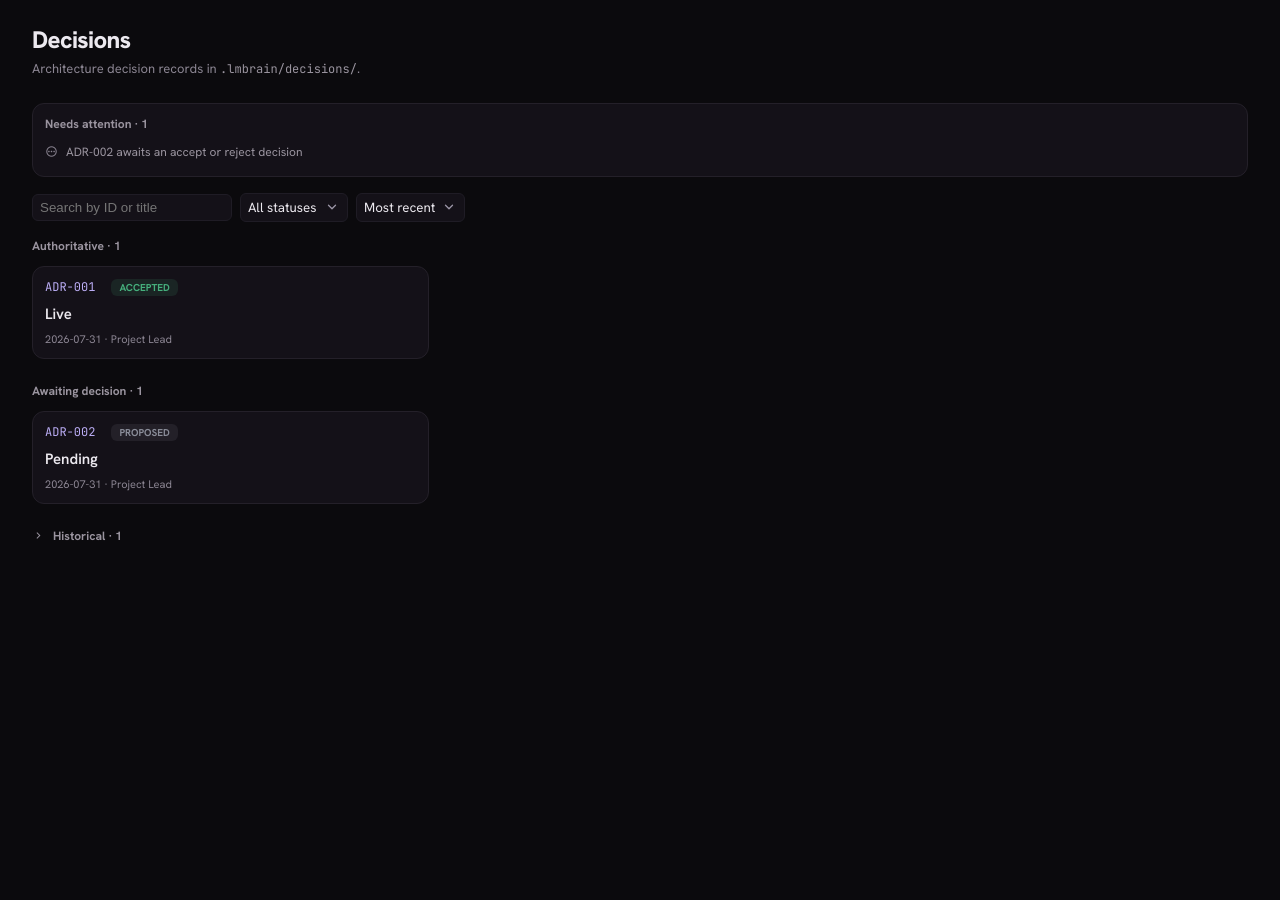
Test: DecisionsList lifecycle › groups by authority and collapses history behind a disclosure
The image size is (1280, 900).
Check: the heading "Authoritative · 1" is shown, box [32,238,121,254]
Check: the heading "Awaiting decision · 1" is shown, box [32,382,143,398]
Click the button "Historical · 1": (77, 536) [32,528,122,544]
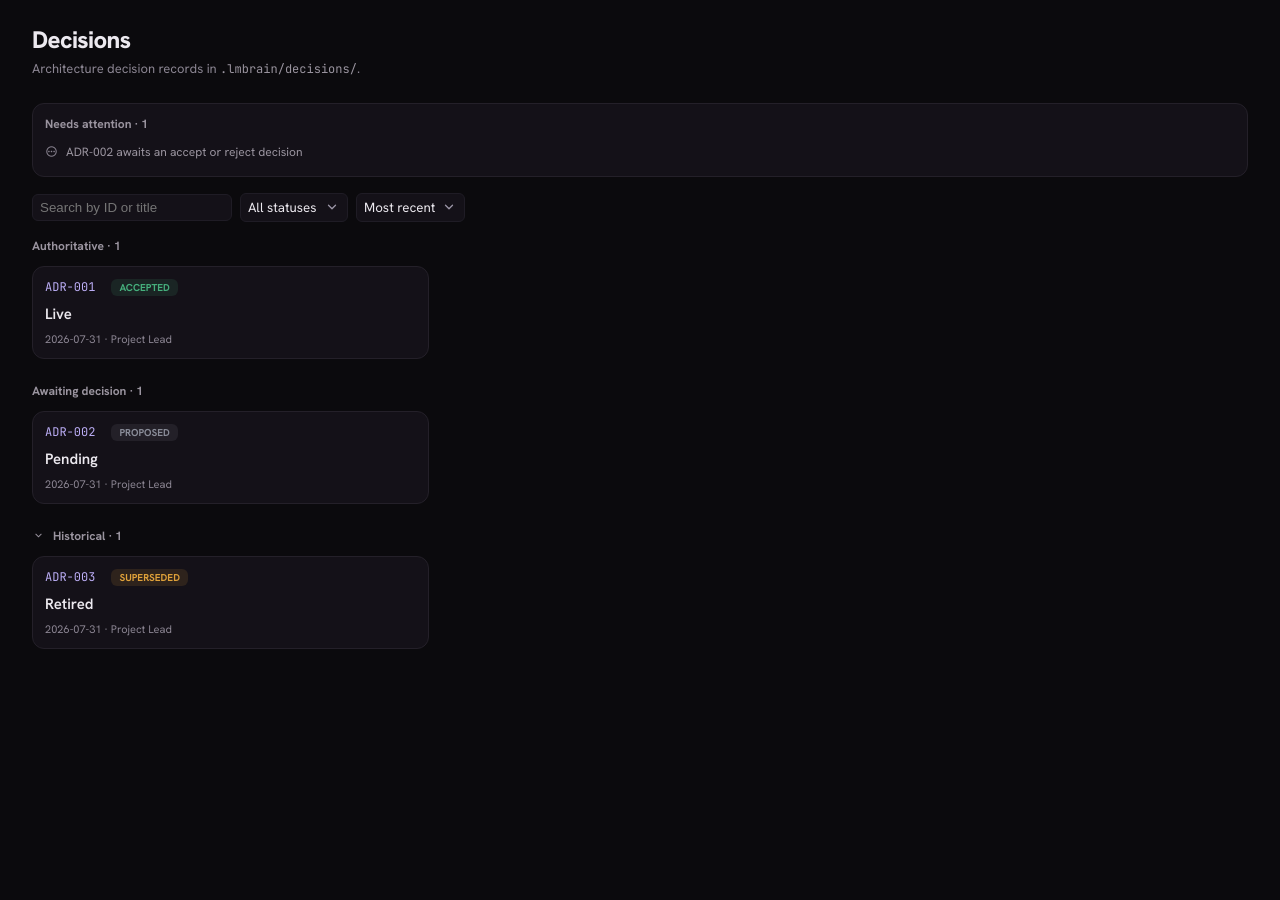
Check: the button "Historical · 1" is expanded, box [32,528,122,544]
Check: the text "Retired" is shown, box [45,594,94,614]
